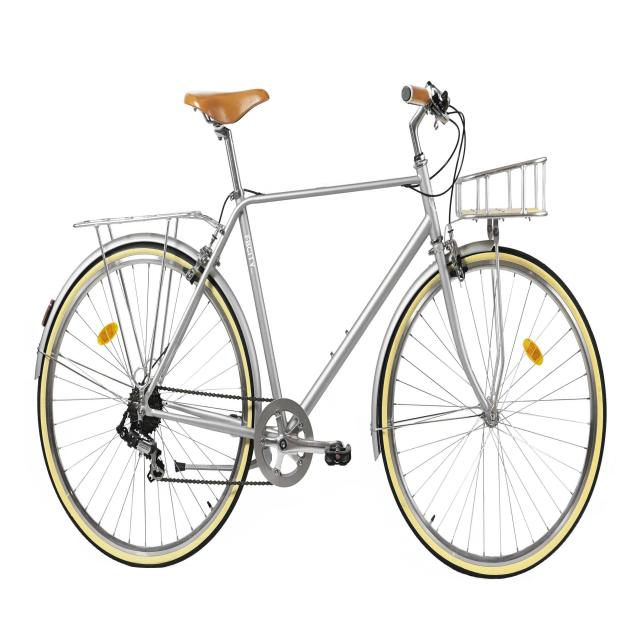road-bike: (31, 78, 608, 582)
